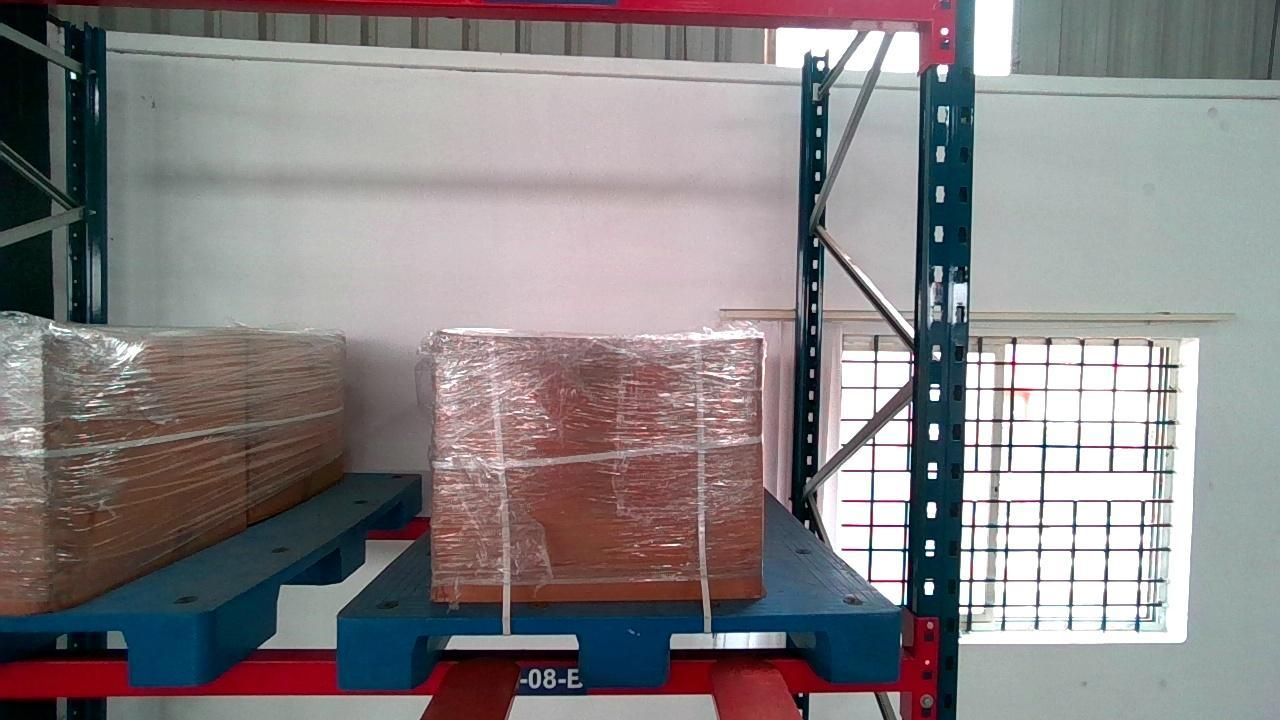small_pallet: (339, 611, 898, 687), (0, 617, 197, 688)
